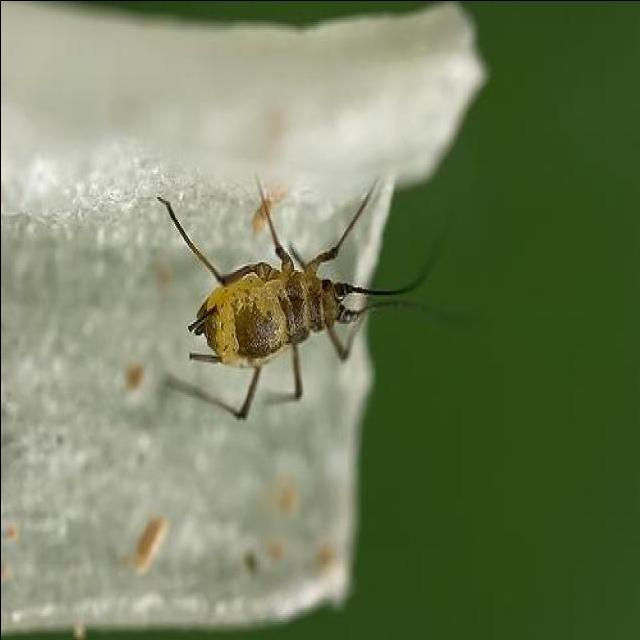aphid: (188, 192, 418, 422)
